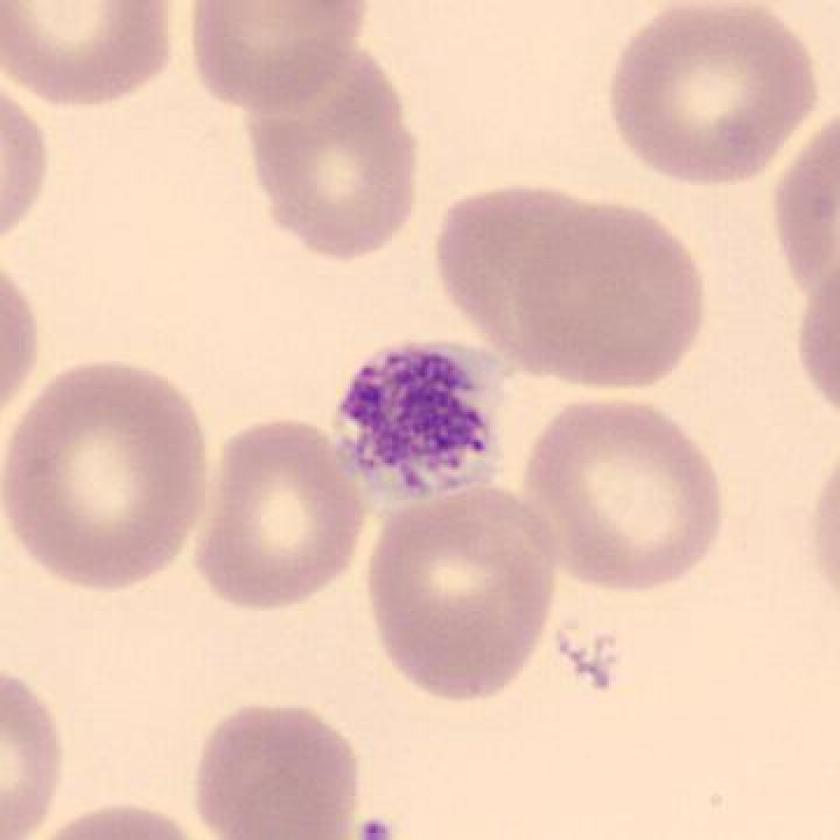platelets: (323, 337, 519, 520)
